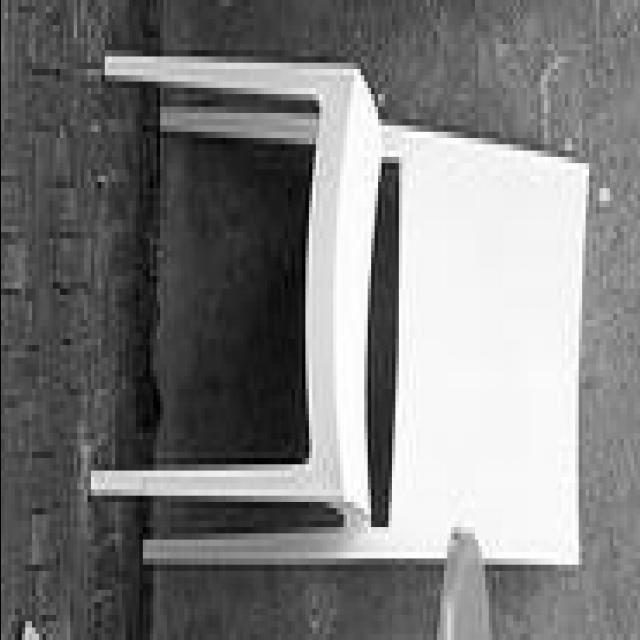chair: (91, 49, 591, 586)
